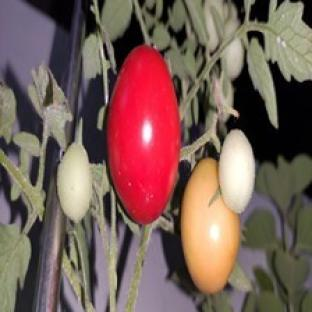Tomato: (108, 45, 181, 224), (182, 159, 239, 293), (219, 130, 254, 213), (58, 143, 91, 222)
